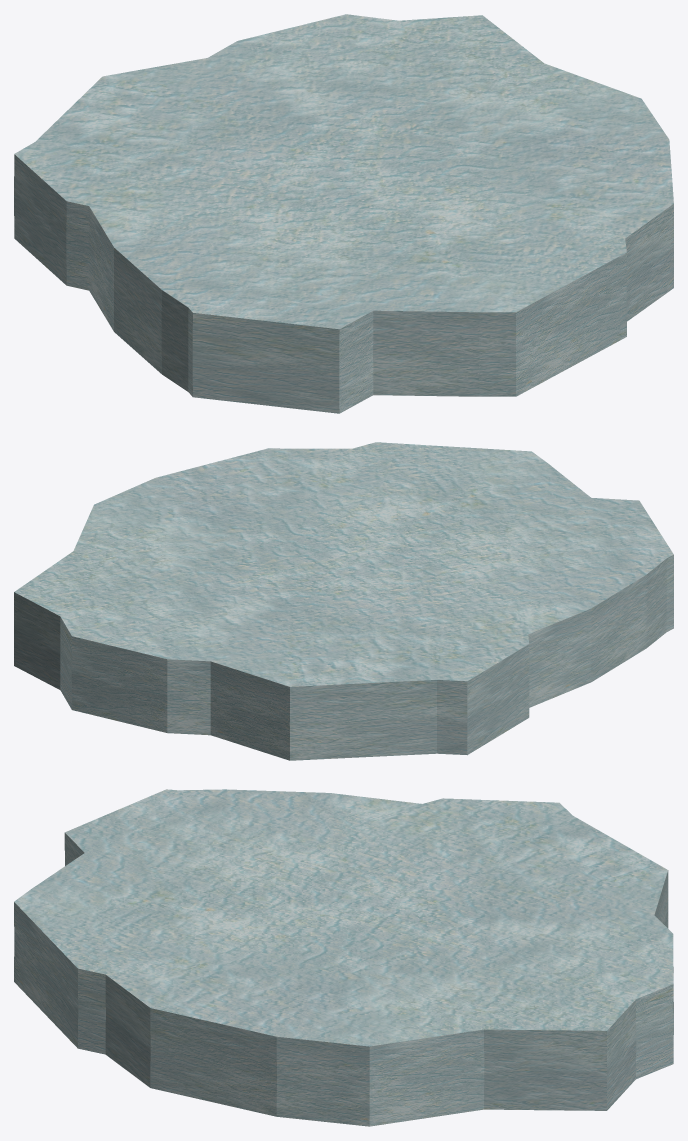
Rendered from PlataformaResbaladiza.fbx.
3 views of the same model, one above another, from view 1: azimuth 30°, elevation 25°; view 2: azimuth 150°, elevation 25°; view 3: azimuth 270°, elevation 25° (orthographic). The views are drawn at different scales.
Visible parts, largest first — view 1: 1_PlataformaNormalResbaladiza2; view 2: 1_PlataformaNormalResbaladiza2; view 3: 1_PlataformaNormalResbaladiza2.
Boxes of the visible parts, left/top/right/bottom form: 1_PlataformaNormalResbaladiza2: left=14, top=14, right=673, bottom=413; 1_PlataformaNormalResbaladiza2: left=14, top=442, right=673, bottom=760; 1_PlataformaNormalResbaladiza2: left=14, top=789, right=673, bottom=1126.
Size of the model in its own units: 3.56 by 0.5175 by 3.87.
1 material, 1 textured.
